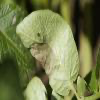Potato leaf late blight: (16, 8, 80, 95)
